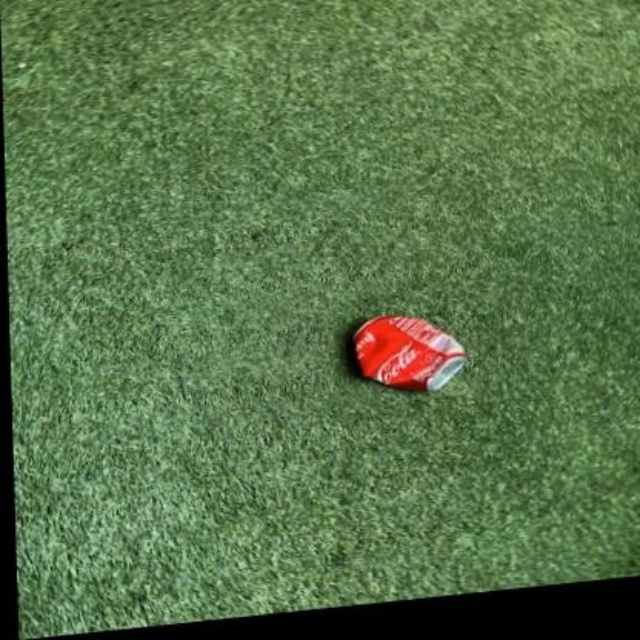trash: (354, 315, 466, 391)
